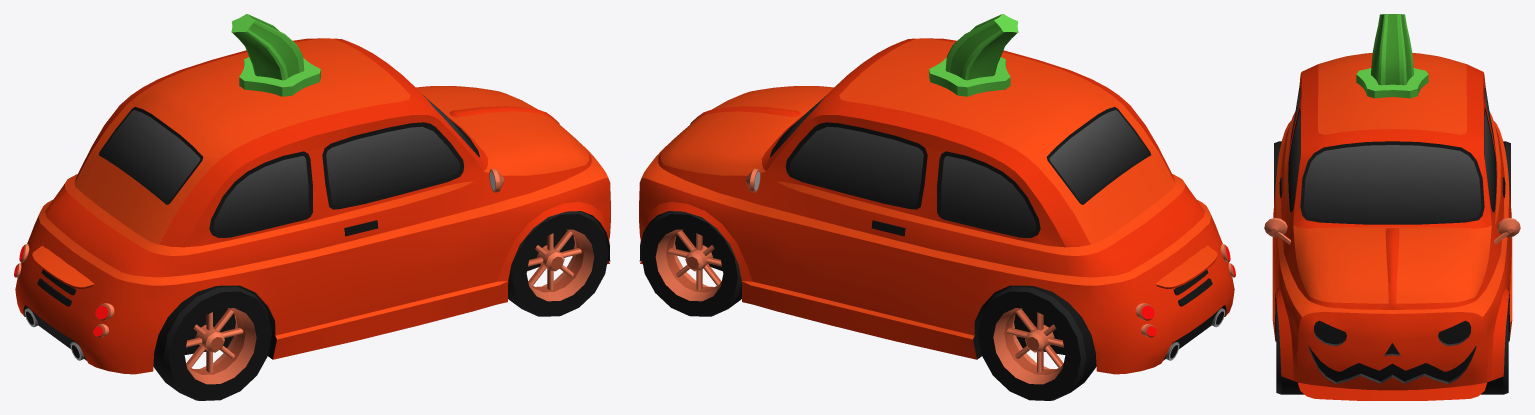
Rendered from Car_058.glb.
3 renders of one model, left to right at view 1: azimuth 30°, elevation 25°; view 2: azimuth 150°, elevation 25°; view 3: azimuth 270°, elevation 25°, orthographic. The views are drawn at different scales.
Visible parts, largest first — view 1: Car_058, wheel_3_Car_058_Wheel_2R, wheel_1_Car_058_Wheel_1R; view 2: Car_058, wheel_2_Car_058_Wheel_2L, wheel_0_Car_058_Wheel_1L; view 3: Car_058, wheel_1_Car_058_Wheel_1R, wheel_0_Car_058_Wheel_1L.
Boxes of the visible parts, x1=… form: Car_058: x1=14, y1=14, x2=610, y2=374; wheel_3_Car_058_Wheel_2R: x1=153, y1=285, x2=272, y2=400; wheel_1_Car_058_Wheel_1R: x1=508, y1=211, x2=608, y2=316; Car_058: x1=639, y1=14, x2=1235, y2=374; wheel_2_Car_058_Wheel_2L: x1=977, y1=285, x2=1096, y2=400; wheel_0_Car_058_Wheel_1L: x1=641, y1=211, x2=741, y2=316; Car_058: x1=1264, y1=14, x2=1520, y2=400; wheel_1_Car_058_Wheel_1R: x1=1276, y1=301, x2=1303, y2=394; wheel_0_Car_058_Wheel_1L: x1=1481, y1=301, x2=1508, y2=394.
Size of the model in its own units: 3.71 by 2.1 by 1.79.
Materials: 2 (2 with a texture image).
